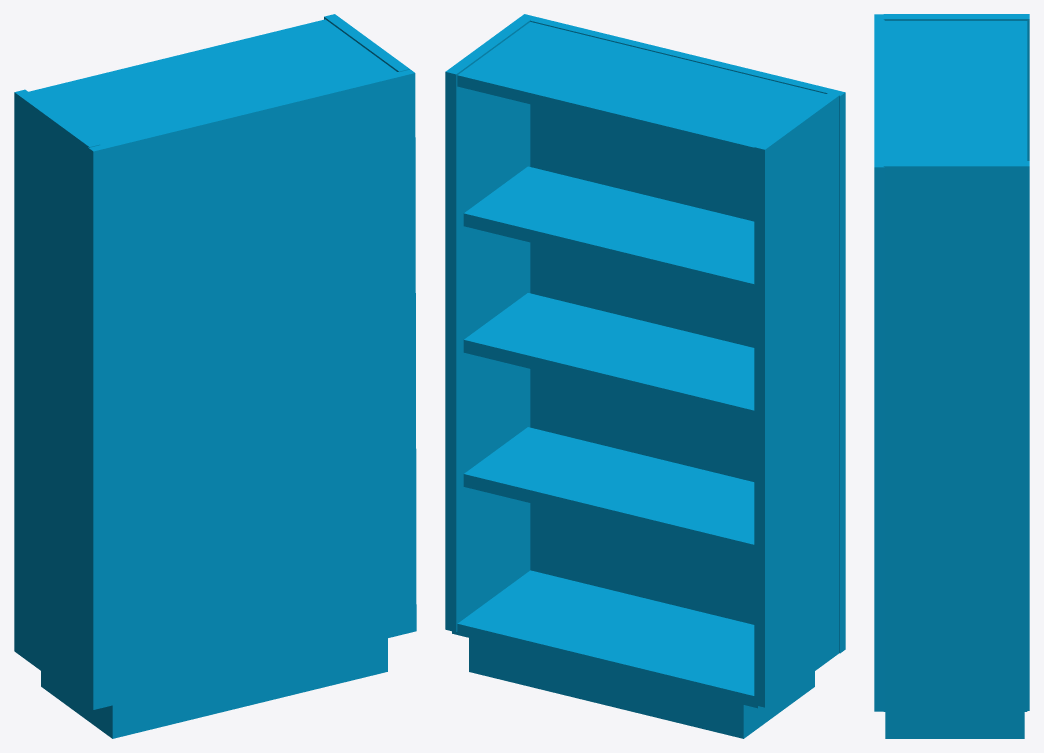
Rendered from Bedroom_Cupboard_01_Lod0.fbx.
3 views of the same model, side by side, from view 1: azimuth 30°, elevation 25°; view 2: azimuth 150°, elevation 25°; view 3: azimuth 270°, elevation 25° (orthographic). The views are drawn at different scales.
Parts seen in each view (by area): view 1: Bedroom_Cupboard_01_Lod0; view 2: Bedroom_Cupboard_01_Lod0; view 3: Bedroom_Cupboard_01_Lod0.
Boxes of the visible parts, x1,y1,x2,y2 form: Bedroom_Cupboard_01_Lod0: (14, 14, 416, 738); Bedroom_Cupboard_01_Lod0: (445, 14, 845, 738); Bedroom_Cupboard_01_Lod0: (874, 14, 1029, 738).
Size of the model in its own units: 126 by 224 by 54.12.
